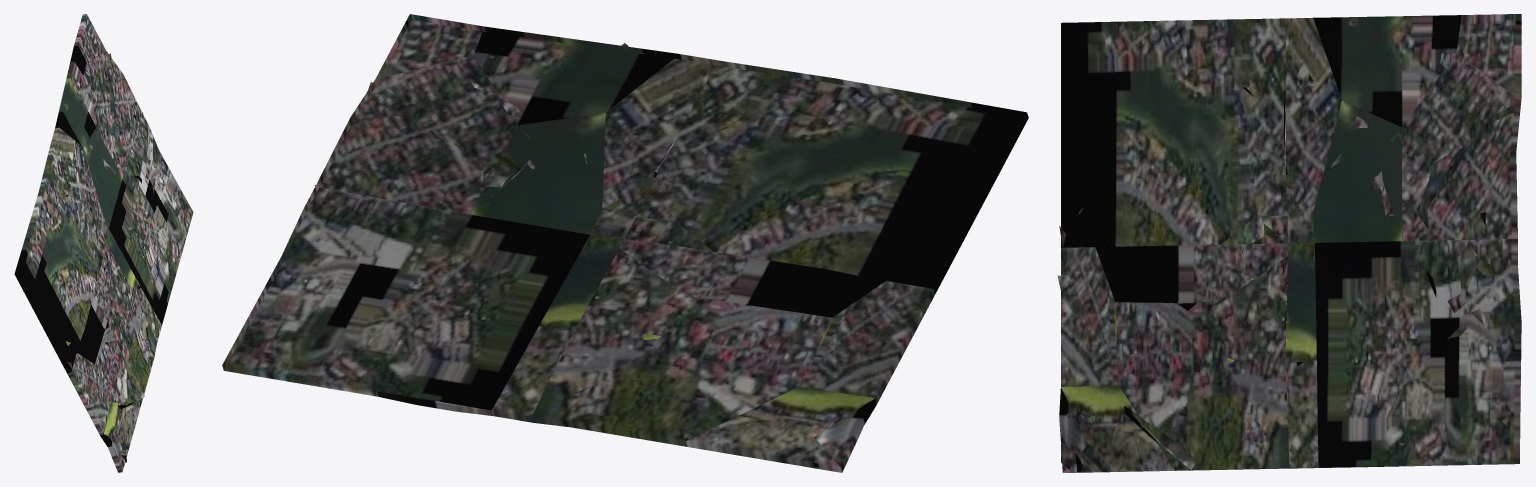
3 views of the same model, side by side, from view 1: azimuth 30°, elevation 25°; view 2: azimuth 150°, elevation 25°; view 3: azimuth 270°, elevation 25° (orthographic). The views are drawn at different scales.
Visible parts, largest first — view 1: node_304362727043725_mesh0; view 2: node_304362727043725_mesh0; view 3: node_304362727043725_mesh0.
Part boxes in pixels (x1,y1,x2,y2): node_304362727043725_mesh0: [14, 14, 193, 472]; node_304362727043725_mesh0: [222, 14, 1028, 472]; node_304362727043725_mesh0: [1057, 14, 1521, 472].
Size of the model in its own units: 1156 by 1162 by 900.
Materials: 1 (1 with a texture image).
